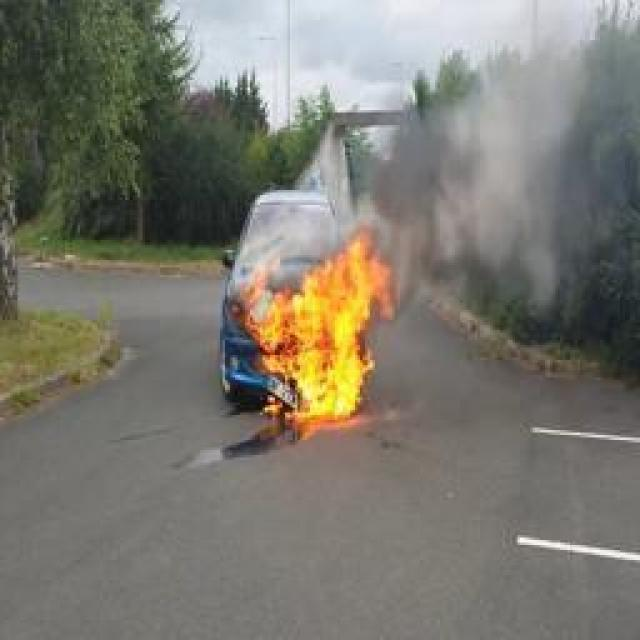Fire: (244, 224, 394, 418)
